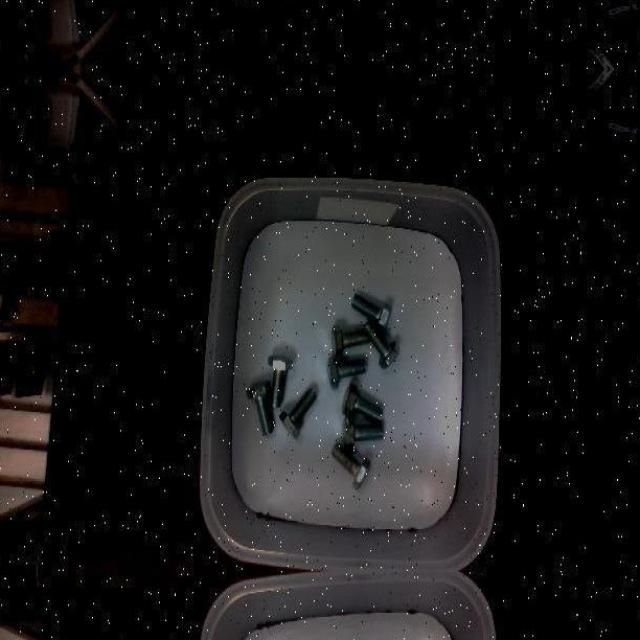screw: (279, 389, 318, 439), (331, 442, 370, 491), (363, 319, 398, 369), (342, 382, 383, 424), (246, 380, 275, 434), (343, 414, 384, 449), (266, 354, 292, 406), (326, 356, 366, 389)
